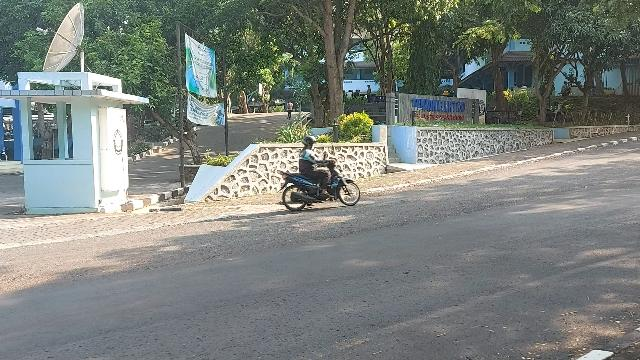helm: (303, 136, 318, 150)
motor: (277, 159, 362, 213)
